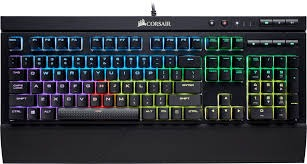keyboard: (6, 28, 307, 126)
